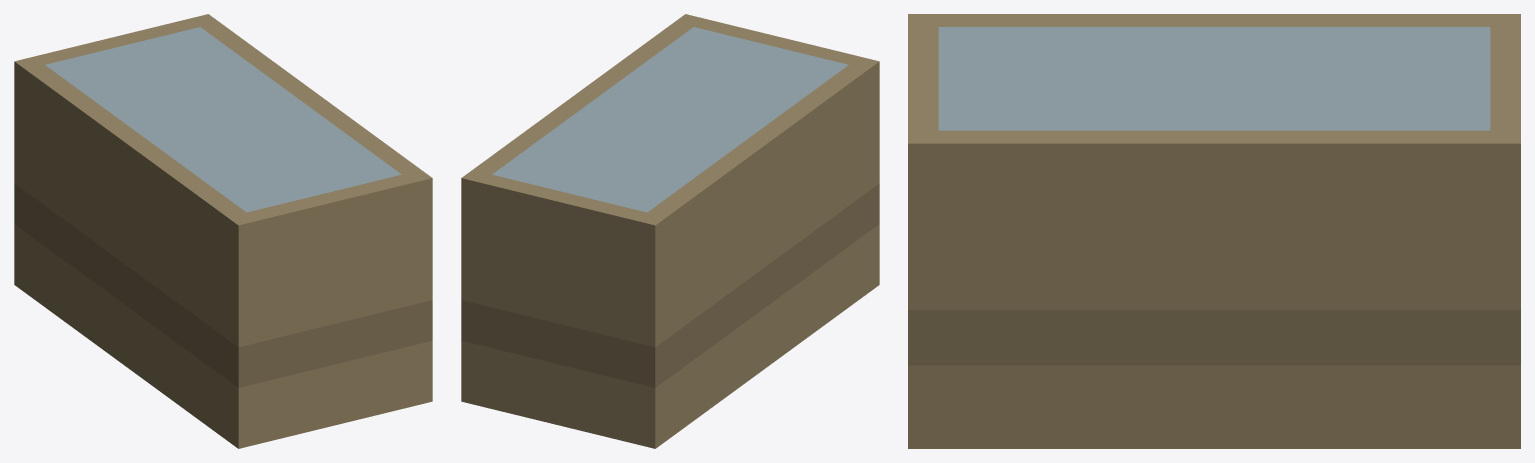
Rendered from tina_madera_desgastada_01.glb.
3 views of the same model, side by side, from view 1: azimuth 30°, elevation 25°; view 2: azimuth 150°, elevation 25°; view 3: azimuth 270°, elevation 25° (orthographic). The views are drawn at different scales.
Parts seen in each view (by area): view 1: tina_madera_desgastada; view 2: tina_madera_desgastada; view 3: tina_madera_desgastada.
Boxes of the visible parts, x1=… form: tina_madera_desgastada: x1=14, y1=14, x2=432, y2=448; tina_madera_desgastada: x1=461, y1=14, x2=879, y2=448; tina_madera_desgastada: x1=908, y1=14, x2=1520, y2=448.
Bounding box in the file's own units: 1 × 1.1 × 2.
